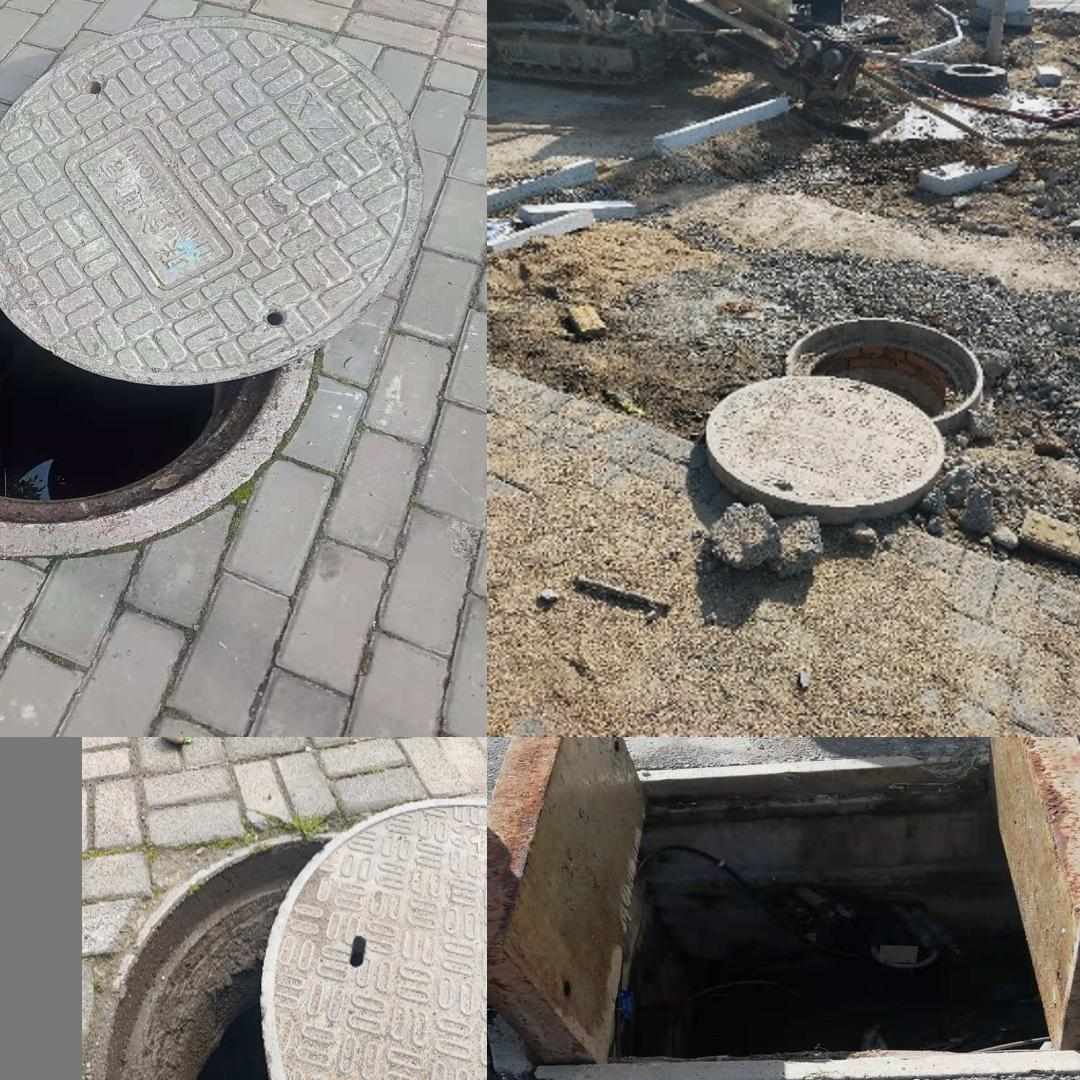uncovered: (0, 21, 428, 540), (496, 737, 1080, 1080), (104, 808, 487, 1080), (704, 313, 984, 518)
